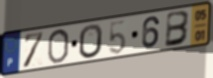5: (108, 18, 128, 55)
6: (141, 15, 161, 50)
7: (23, 30, 45, 69)
B: (164, 9, 192, 49)
O: (78, 23, 104, 60), (46, 28, 71, 65)
